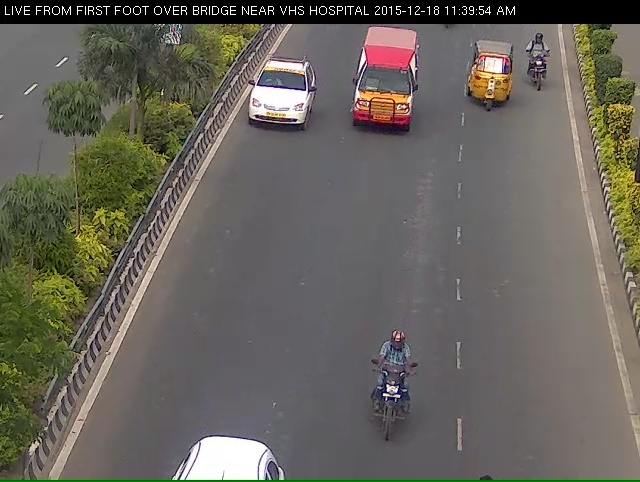Bus: (353, 41, 414, 149)
Car: (237, 69, 315, 152), (469, 51, 514, 123)
Person: (359, 362, 421, 473), (521, 41, 562, 115)
